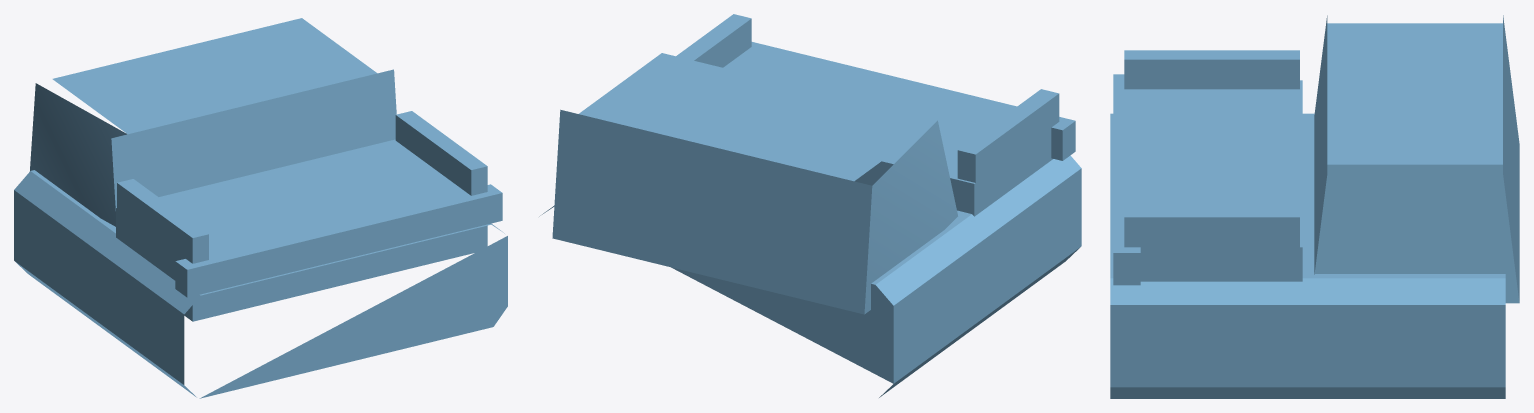
File: basic_truck.body.glb
The picture shows the model from 3 angles, left to right: view 1: azimuth 30°, elevation 25°; view 2: azimuth 150°, elevation 25°; view 3: azimuth 270°, elevation 25°; orthographic projection. The views are drawn at different scales.
Visible parts, largest first — view 1: basic_truck body; view 2: basic_truck body; view 3: basic_truck body.
Part boxes in pixels (x1,y1,x2,y2): basic_truck body: (14,18,507,398); basic_truck body: (539,14,1081,397); basic_truck body: (1110,15,1519,398).
Size of the model in its own units: 1.58 by 0.89 by 1.49.
